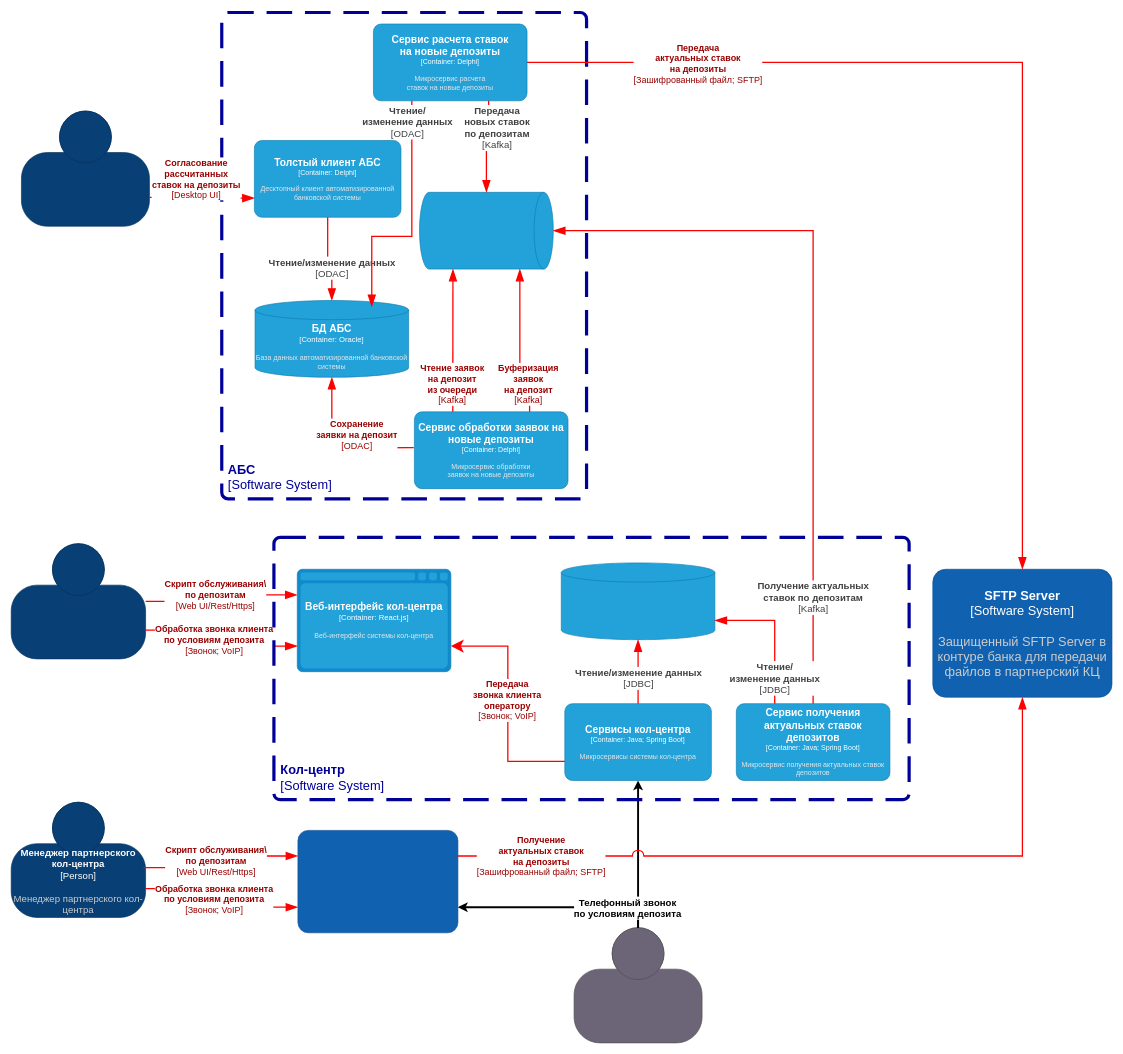
Some shapes in this 1123 by 1054 pixel diagram are drawn without their labels. Here are the shapes that lost their labels. From the top down, the centre of each, then its label:
At point 85,168: "Менеджер бэк-офиса по кредитам [Person] Менеджер кредитного отдела бэк-офиса".
At point 486,230: "Очередь сообщений [Container: Apache Kafka] Очередь сообщений для АБС".
At point 78,601: "Менеджер кол-центра [Person] Менеджер кол-центра".
At point 638,601: "БД Кол-центра [Container: PostgreSQL] База данных кол-центра".
At point 377,881: "Партнерский кол-центр [Software System] Партнерская система кол-центра".
At point 637,985: "Клиент [Person] Клиент банка".
